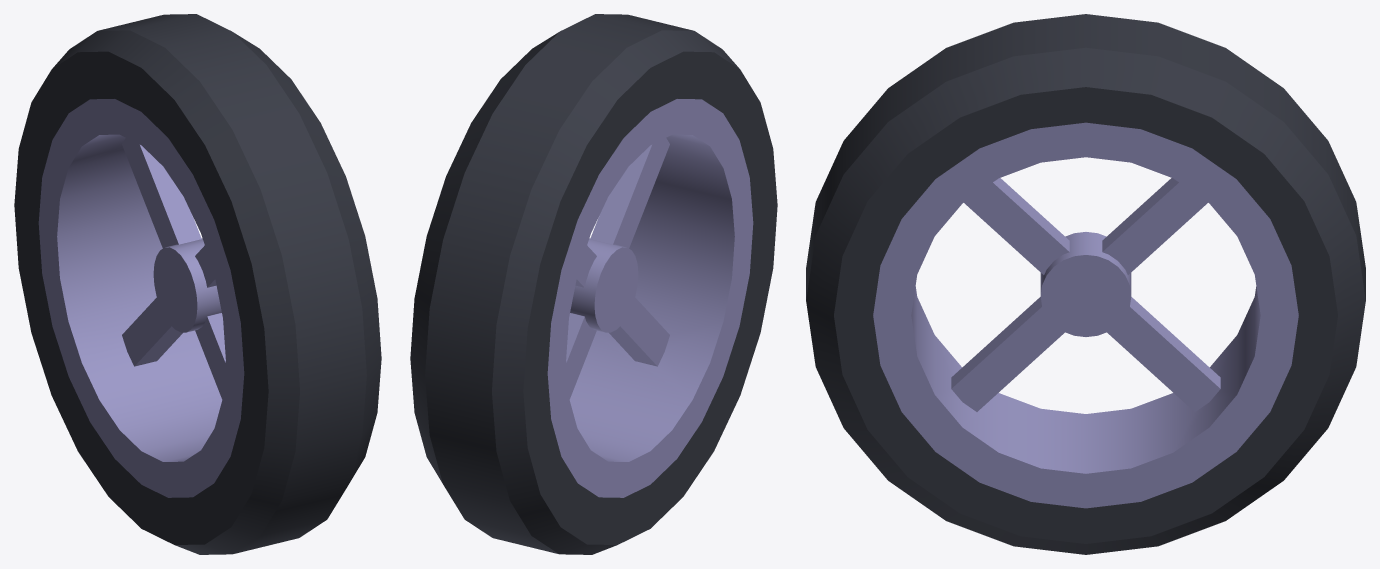
File: RightWheel.fbx
3 renders of one model, left to right at view 1: azimuth 30°, elevation 25°; view 2: azimuth 150°, elevation 25°; view 3: azimuth 270°, elevation 25°, orthographic. The views are drawn at different scales.
Visible parts, largest first — view 1: mergedBlocks; view 2: mergedBlocks; view 3: mergedBlocks.
Part boxes in pixels (box(x1,y1,x2,y2)): mergedBlocks: box(14, 14, 381, 554); mergedBlocks: box(410, 14, 777, 554); mergedBlocks: box(806, 14, 1365, 554).
Bounding box in the file's own units: 1.4 × 5.54 × 5.54.
